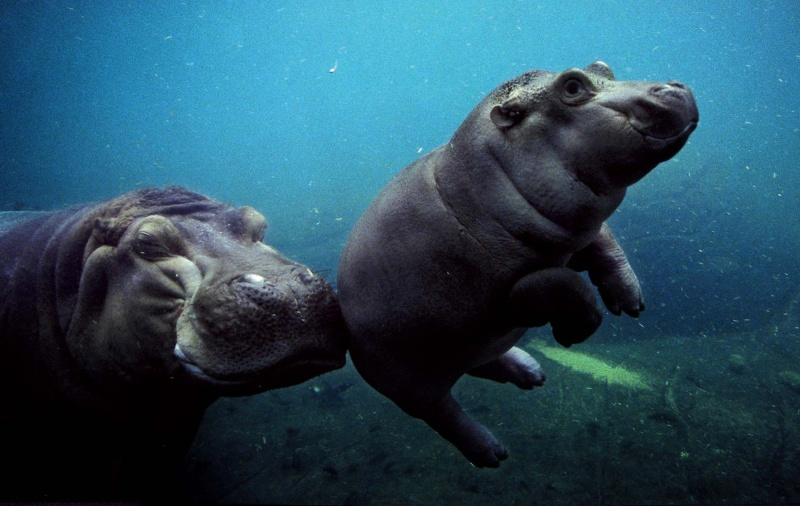hipopotamo: (332, 48, 715, 475), (0, 170, 350, 497)
